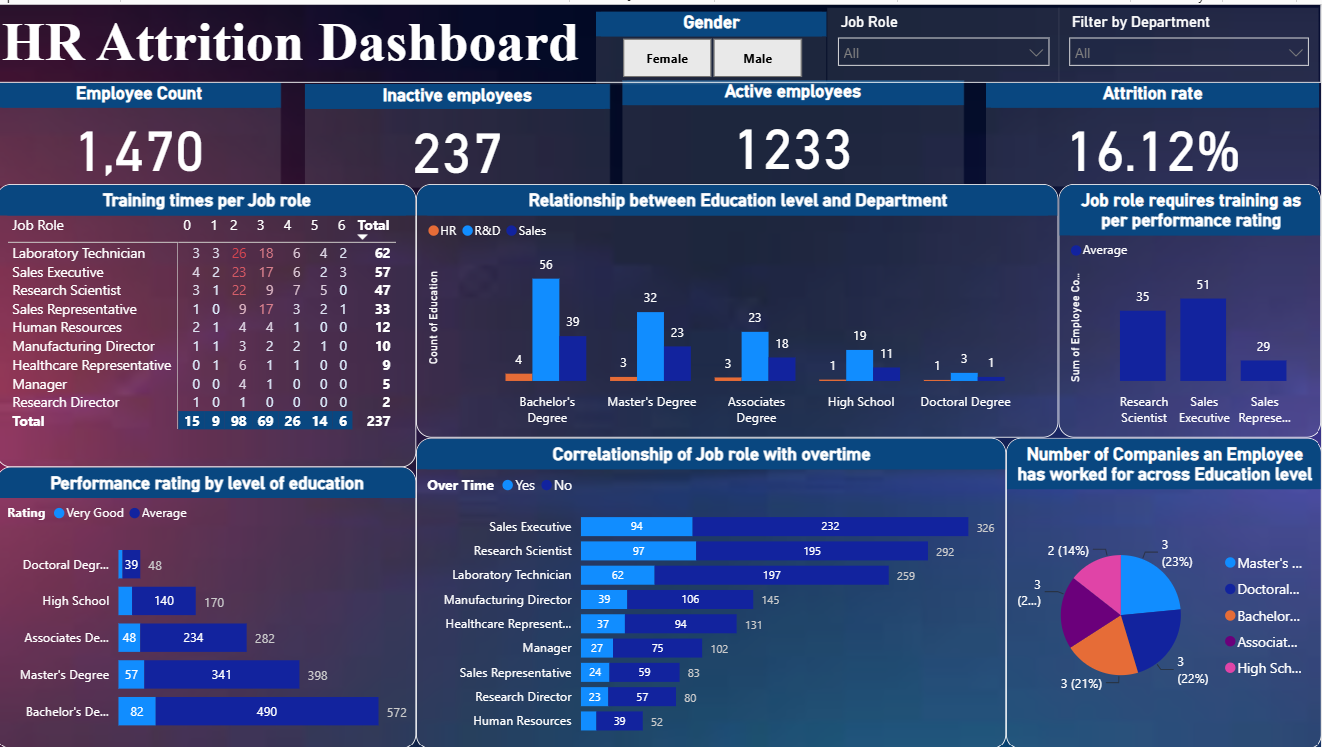

What the dashboard file says about the page in this screenshot:
{"tool":"powerbi","page":{"name":"Performance Analysis","canvas":[1280,720],"ordinal":3},"visuals":[{"type":"card","title":"Attrition rate","fields":{"Values":["All measures.Attrition %"]},"box":[955.5,76,322.1,100.1],"z":0},{"type":"card","title":"Employee Count","fields":{"Values":["All measures.Total Employees"]},"box":[1.2,76,273.9,100.1],"z":1000},{"type":"card","title":"Active employees","fields":{"Values":["Sum(Hr_data1.Active employees)"]},"box":[604.4,73.6,329.4,100.1],"z":2000},{"type":"textbox","box":[0,0,1280.3,75.6],"z":3000},{"type":"slicer","title":"Gender","fields":{"Values":["Hr_data1.Gender"]},"box":[578.9,6.9,222.8,70.1],"z":4000},{"type":"slicer","fields":{"Values":["Hr_data1.Department"]},"box":[1025.9,4.1,251.7,71.5],"z":5000},{"type":"card","title":"Inactive employees","fields":{"Values":["All measures.Total Attrition"]},"box":[298,77.2,294.4,100.1],"z":6000},{"type":"slicer","fields":{"Values":["Hr_data1.Job Role"]},"box":[801.7,4.1,224.2,71.5],"z":7000},{"type":"pivotTable","title":"Training times per Job role","fields":{"Columns":["Hr_data1.Training Times Last Year"],"Rows":["Hr_data1.Job Role"],"Values":["Sum(Hr_data1.Attrition count)"]},"box":[0,173.3,405.7,273.7],"z":8000},{"type":"barChart","title":"Correlationship of Job role with overtime","fields":{"Category":["Hr_data1.Job Role"],"Series":["Hr_data1.Over Time"],"Y":["CountNonNull(Hr_data1.Job Level)"]},"box":[405.4,418.6,569.4,301.6],"z":9000},{"type":"barChart","title":"Performance rating by level of education","fields":{"Category":["Hr_data1.Education"],"Series":["Hr_data1.Rating"],"Y":["CountNonNull(Hr_data1.Performance Rating)"]},"box":[0,446.4,406,273.8],"z":10000},{"type":"clusteredColumnChart","title":"Relationship between Education level and Department","fields":{"Category":["Hr_data1.Education"],"Series":["Hr_data1.Department"],"Y":["CountNonNull(Hr_data1.Education)"]},"box":[405.4,173.7,620.1,244.9],"z":12000},{"type":"columnChart","title":"Job role requires training as per performance rating","fields":{"Category":["Hr_data1.Job Role"],"Series":["Hr_data1.Rating"],"Y":["Sum(Hr_data1.Employee Count)"]},"box":[1025.5,173.7,254.6,244.9],"z":13000},{"type":"pieChart","title":"Number of Companies an Employee has worked for across Education level","fields":{"Category":["Hr_data1.Education"],"Series":["Hr_data1.Employee Count"],"Y":["Avg(Hr_data1.Num Companies Worked)"]},"box":[974.8,418.6,305.2,301.6],"z":14000}]}

Visuals, with their boxes in screenshot pixels (x1, y1, x2, y2), scaled from the page's 1280x720 canvas onto the 1322x747 screenshot:
"Attrition rate" card: {"x1": 987, "y1": 79, "x2": 1320, "y2": 183}
"Employee Count" card: {"x1": 1, "y1": 79, "x2": 284, "y2": 183}
"Active employees" card: {"x1": 624, "y1": 76, "x2": 964, "y2": 180}
textbox: {"x1": 0, "y1": 0, "x2": 1321, "y2": 78}
"Gender" slicer: {"x1": 598, "y1": 7, "x2": 828, "y2": 80}
slicer - Hr_data1.Department: {"x1": 1060, "y1": 4, "x2": 1320, "y2": 78}
"Inactive employees" card: {"x1": 308, "y1": 80, "x2": 612, "y2": 184}
slicer - Hr_data1.Job Role: {"x1": 828, "y1": 4, "x2": 1060, "y2": 78}
"Training times per Job role" pivotTable: {"x1": 0, "y1": 180, "x2": 419, "y2": 464}
"Correlationship of Job role with overtime" barChart: {"x1": 419, "y1": 434, "x2": 1007, "y2": 746}
"Performance rating by level of education" barChart: {"x1": 0, "y1": 463, "x2": 419, "y2": 746}
"Relationship between Education level and Department" clusteredColumnChart: {"x1": 419, "y1": 180, "x2": 1059, "y2": 434}
"Job role requires training as per performance rating" columnChart: {"x1": 1059, "y1": 180, "x2": 1321, "y2": 434}
"Number of Companies an Employee has worked for across Education level" pieChart: {"x1": 1007, "y1": 434, "x2": 1321, "y2": 746}
